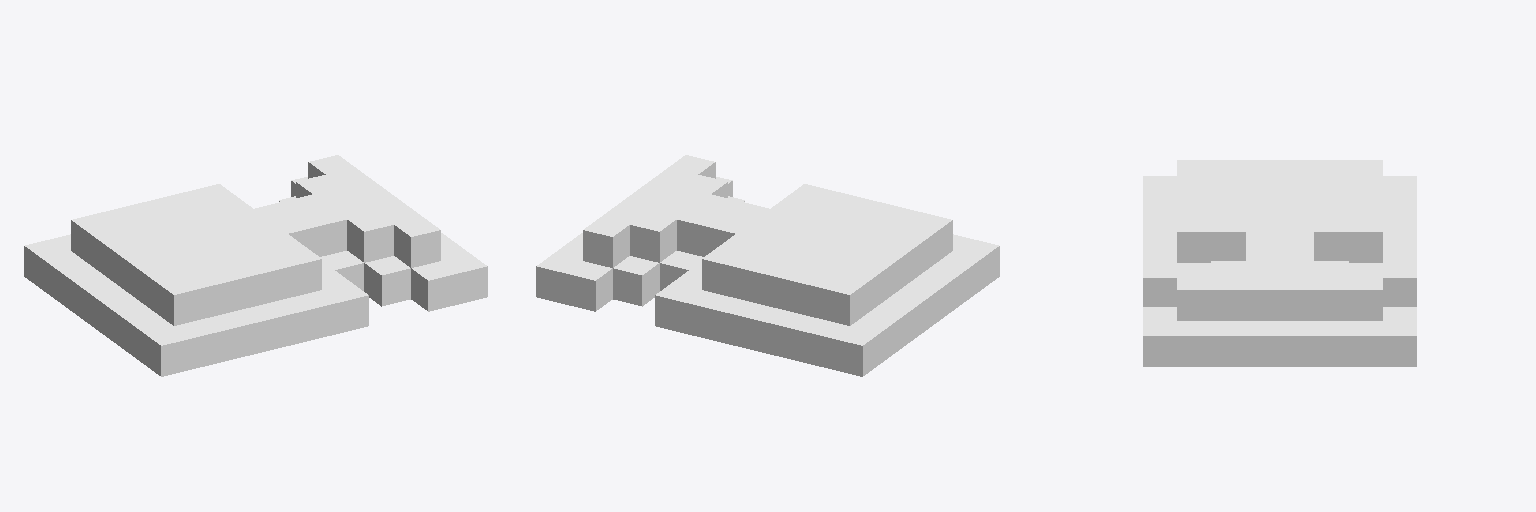
The model's file is buttonShape_camera.obj.
3 views of the same model, side by side, from view 1: azimuth 30°, elevation 25°; view 2: azimuth 150°, elevation 25°; view 3: azimuth 270°, elevation 25° (orthographic).
Bounding box in the file's own units: 11 × 2 × 8.